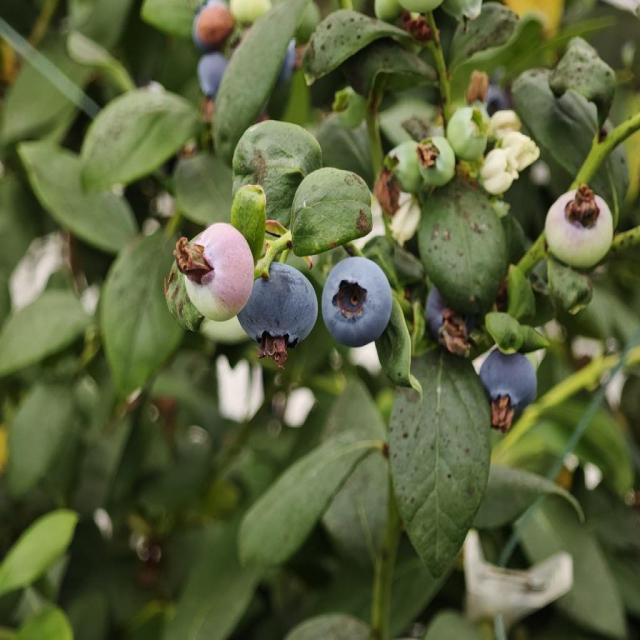RipeBlueBerry: (238, 260, 320, 354), (321, 256, 393, 350), (478, 348, 538, 419)
Semi-RipeBlueBerry: (175, 218, 257, 322)
UnripeBlueBerry: (543, 184, 615, 270)
